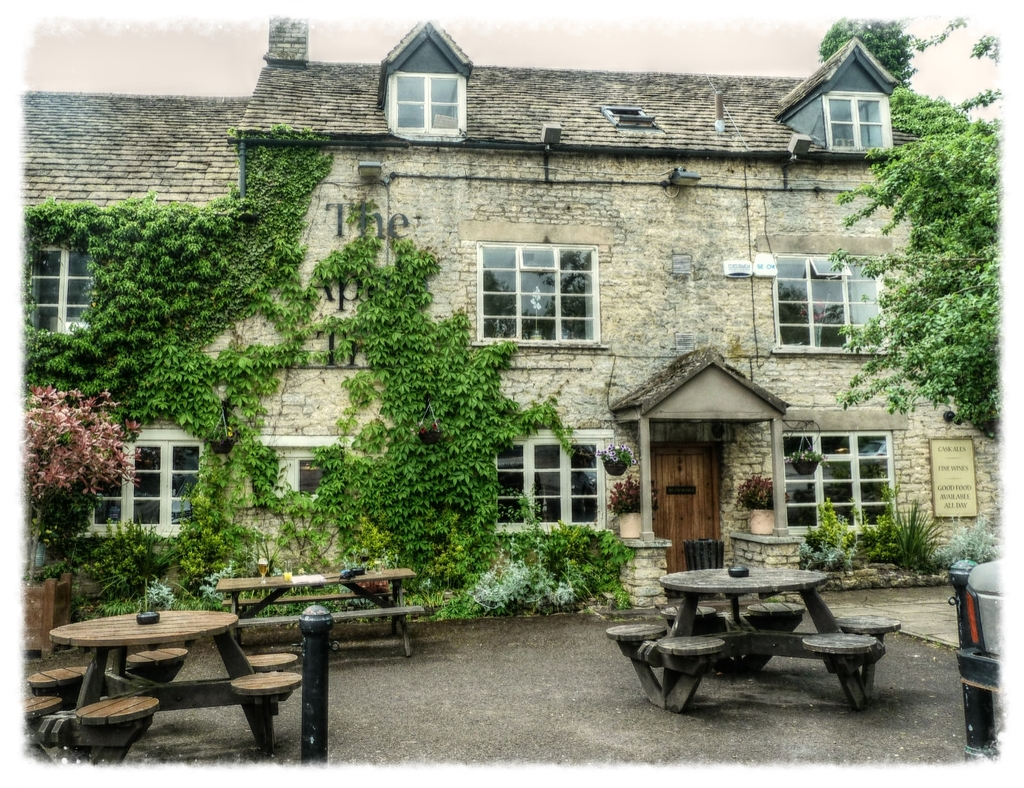Tree: (863, 78, 992, 523)
